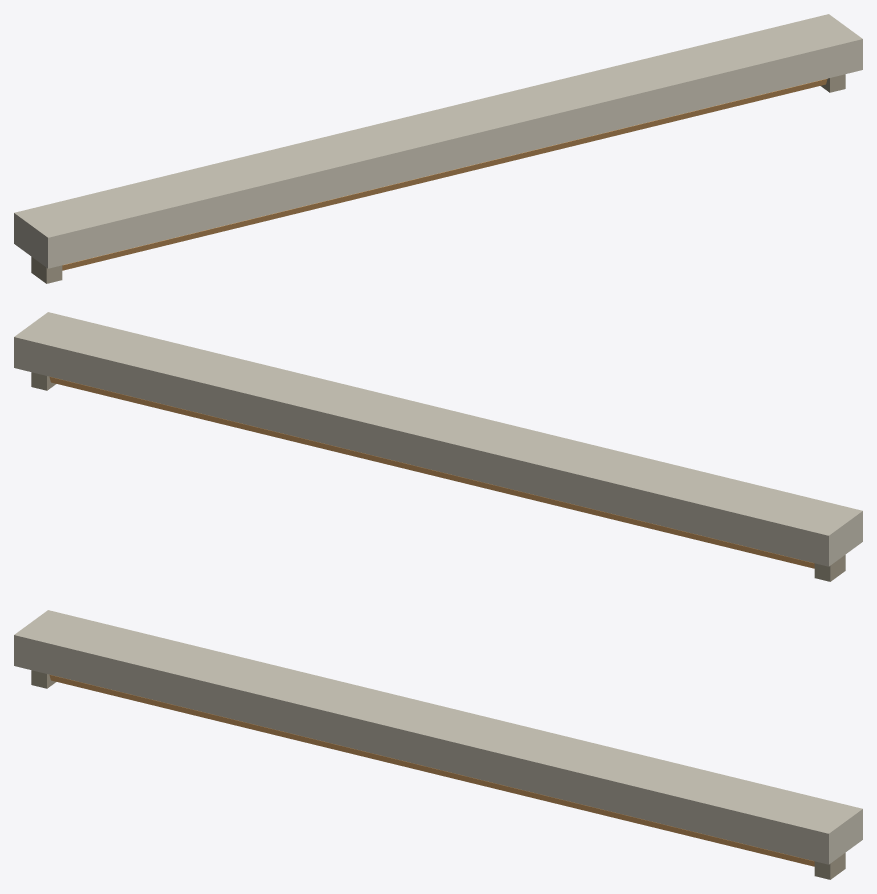
The model's file is fluorescent-batten.glb.
3 renders of one model, top to bottom at view 1: azimuth 30°, elevation 25°; view 2: azimuth 150°, elevation 25°; view 3: azimuth 330°, elevation 25°, orthographic.
Visible parts, largest first — view 1: enamel, emissive-warm, plastic-light; view 2: enamel, emissive-warm, plastic-light; view 3: enamel, emissive-warm, plastic-light.
Part boxes in pixels (x1,y1,x2,y2): enamel: [14, 14, 862, 268]; emissive-warm: [62, 78, 827, 270]; plastic-light: [31, 74, 845, 283]; enamel: [14, 312, 862, 566]; emissive-warm: [49, 376, 814, 568]; plastic-light: [31, 372, 845, 581]; enamel: [14, 610, 862, 864]; emissive-warm: [49, 674, 814, 866]; plastic-light: [31, 670, 845, 879].
Bounding box in the file's own units: 1.24 × 0.08 × 0.09.
